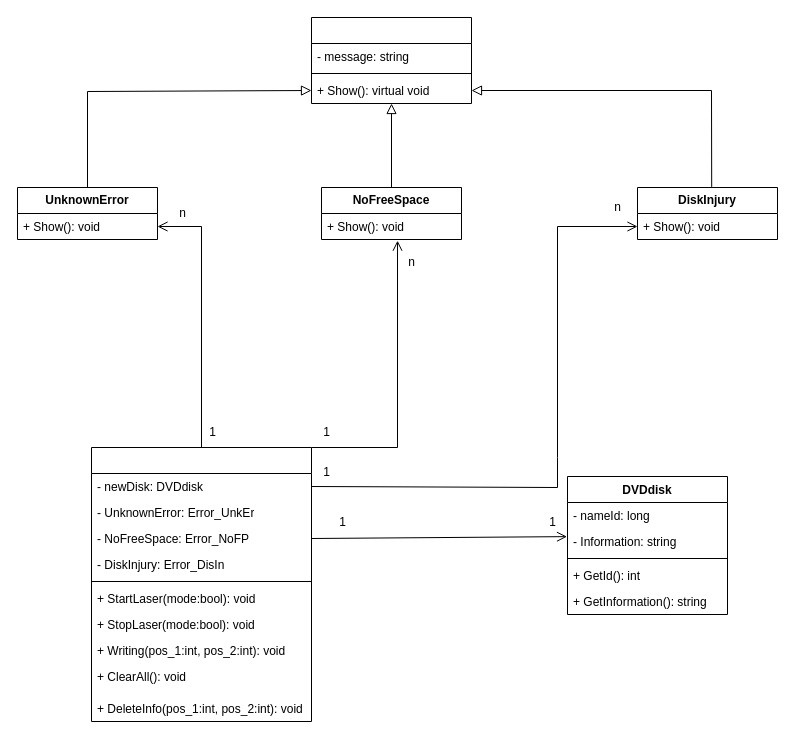
Image size: 795x742. Some labels were removed from this diagram. Here are the shapes that lost their labels. From the top down, the box of each, then its label:
(310, 16, 472, 104): Exception
(90, 446, 312, 722): StreamDisk
